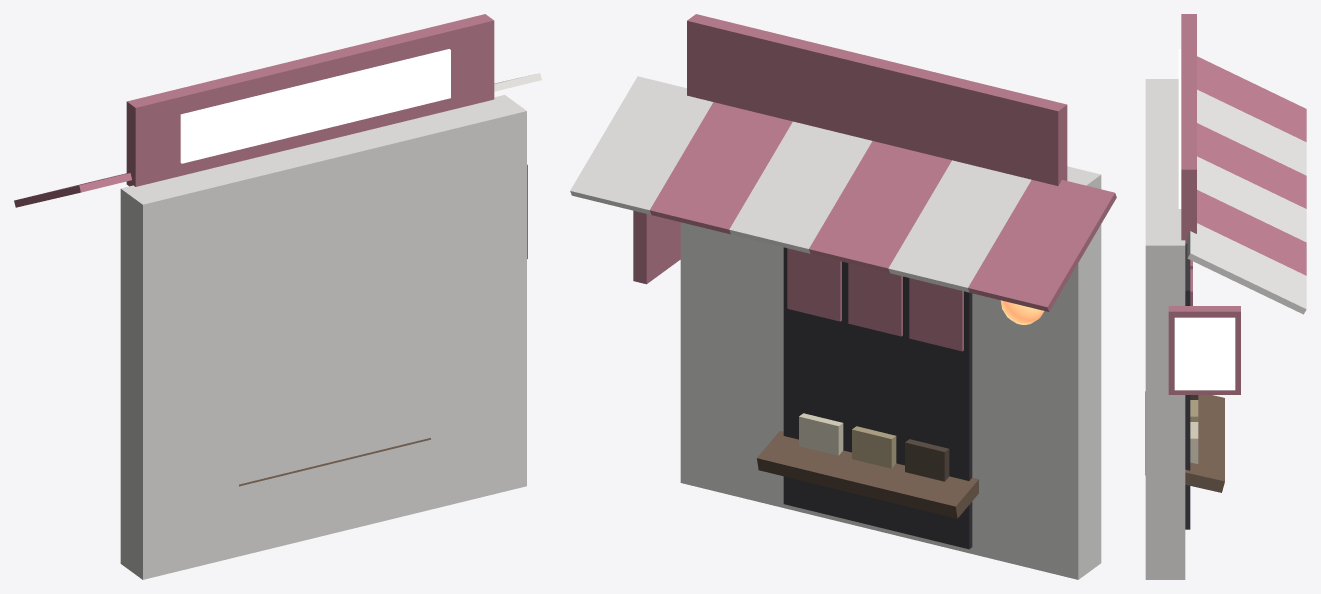
Rendered from prop_mise_biyo.glb.
3 renders of one model, left to right at view 1: azimuth 30°, elevation 25°; view 2: azimuth 150°, elevation 25°; view 3: azimuth 270°, elevation 25°, orthographic. The views are drawn at different scales.
Parts seen in each view (by area): view 1: mise_biyo; view 2: mise_biyo; view 3: mise_biyo.
Part boxes in pixels (x1=…): mise_biyo: x1=14, y1=14, x2=541, y2=579; mise_biyo: x1=570, y1=14, x2=1116, y2=579; mise_biyo: x1=1145, y1=14, x2=1306, y2=579.
Bounding box in the file's own units: 3.6 × 3.39 × 1.23.
